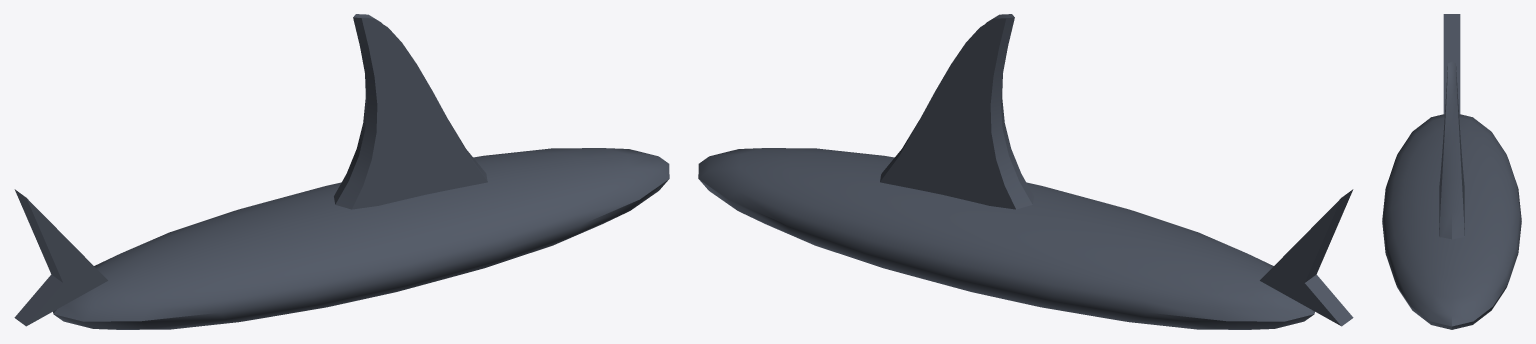
The model's file is shark.fbx.
3 renders of one model, left to right at view 1: azimuth 30°, elevation 25°; view 2: azimuth 150°, elevation 25°; view 3: azimuth 270°, elevation 25°, orthographic. The views are drawn at different scales.
Parts seen in each view (by area): view 1: shark; view 2: shark; view 3: shark.
Part boxes in pixels (x1=…): shark: x1=14, y1=14, x2=669, y2=329; shark: x1=698, y1=14, x2=1353, y2=329; shark: x1=1382, y1=14, x2=1521, y2=329.
Bounding box in the file's own units: 1.58 × 0.61 × 0.42.
